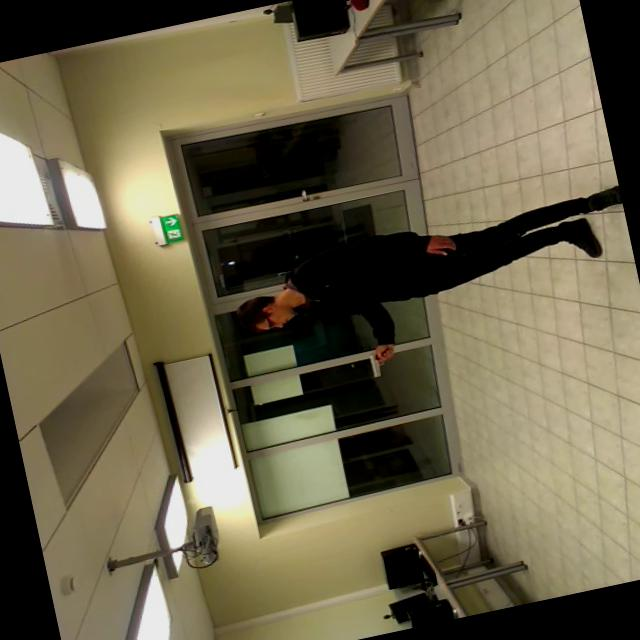handgun: (352, 333, 414, 385)
